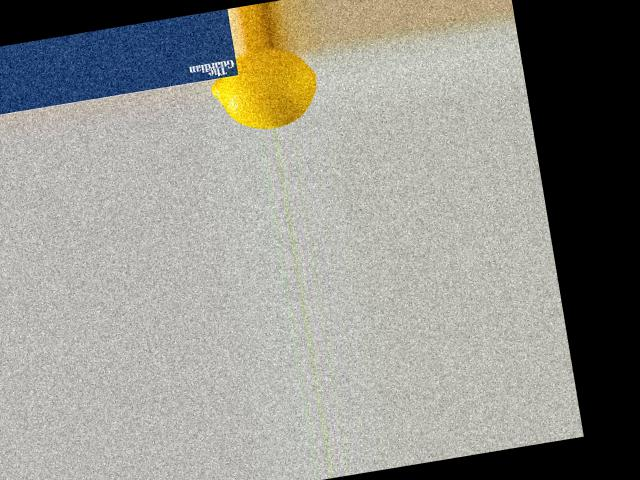lemon: (208, 41, 323, 137)
